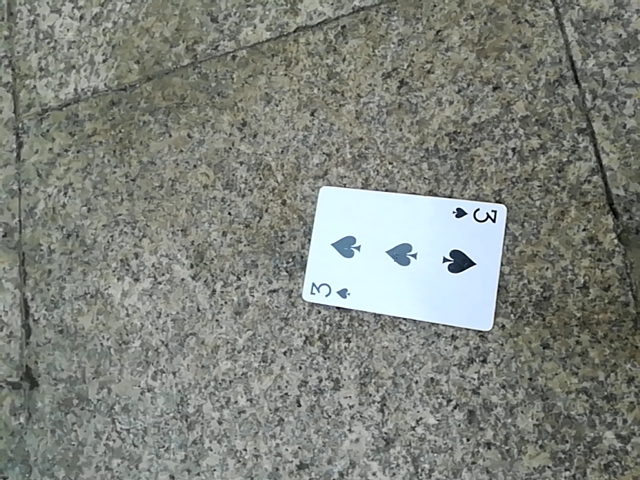ht 3: (307, 185, 503, 336)
